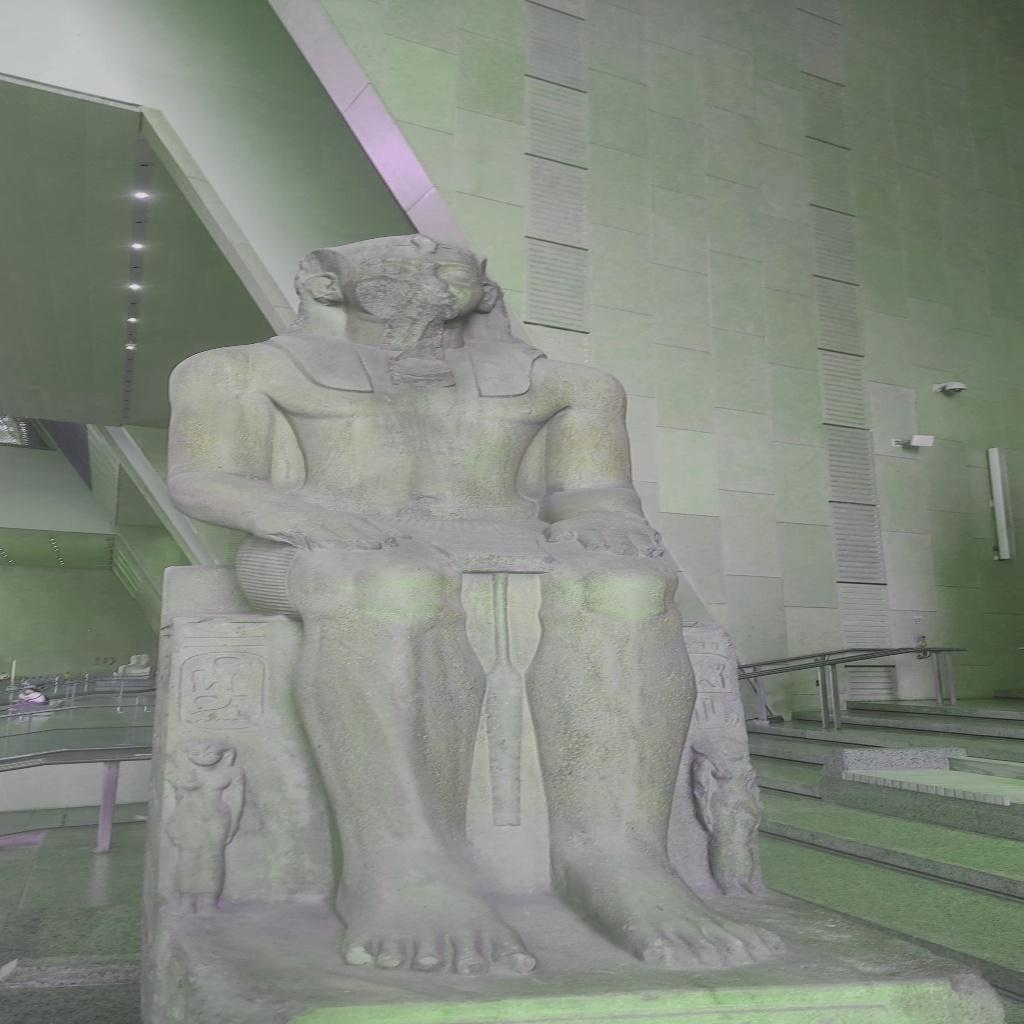Colossal Statue of Middle Kingdom King: (156, 231, 792, 976)
